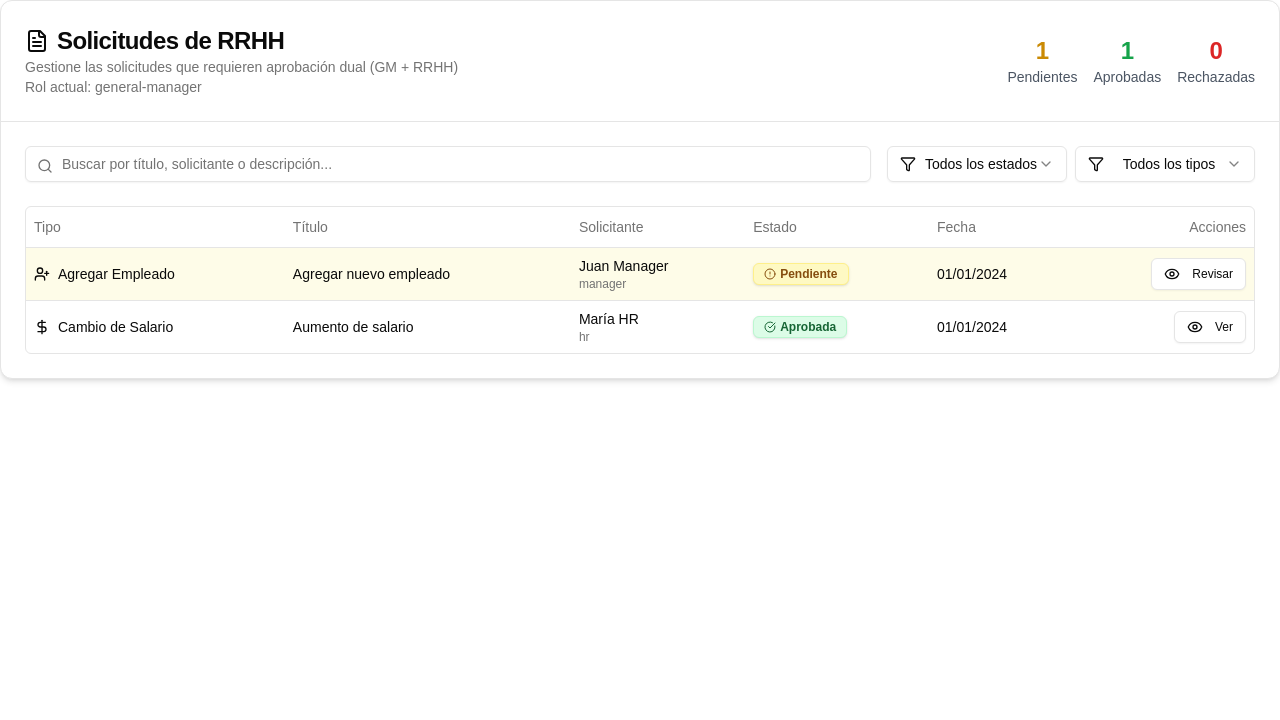
Test: HRRequestsManager › should open request detail modal
The width and height of the screenshot is (1280, 720).
Expected: the text "Agregar nuevo empleado" is shown, [285,247,571,300]
Click the button "Revisar". click: click(1199, 274)
box: [1151,258,1246,290]
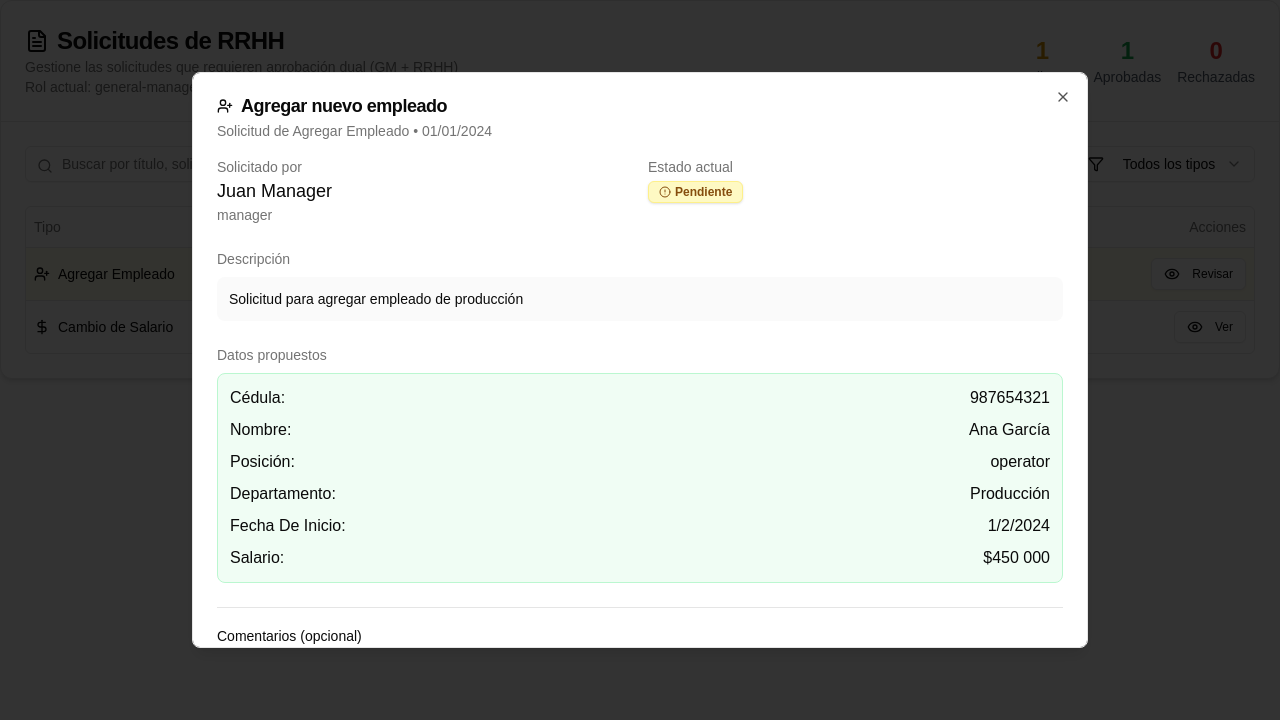
Expected: the text "Descripción" is shown, [217,251,290,267]
Expected: the text "Datos propuestos" is shown, [217,347,327,363]
